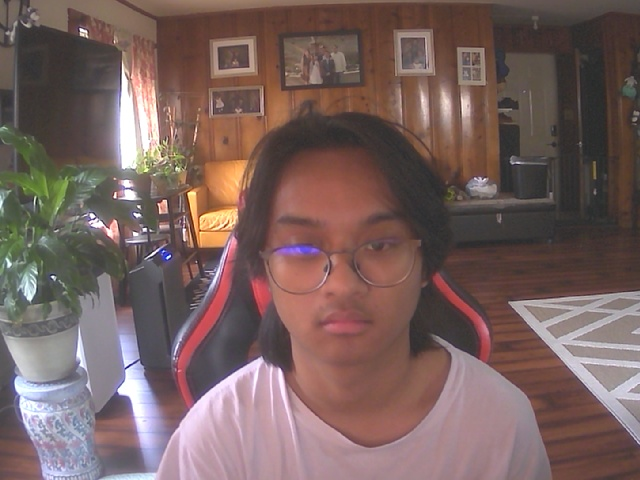neutral: (258, 125, 438, 373)
